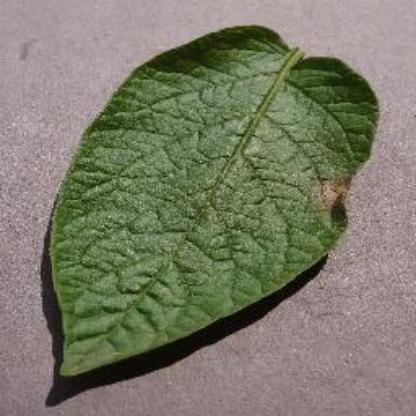Late-Blight: (41, 23, 378, 387)
